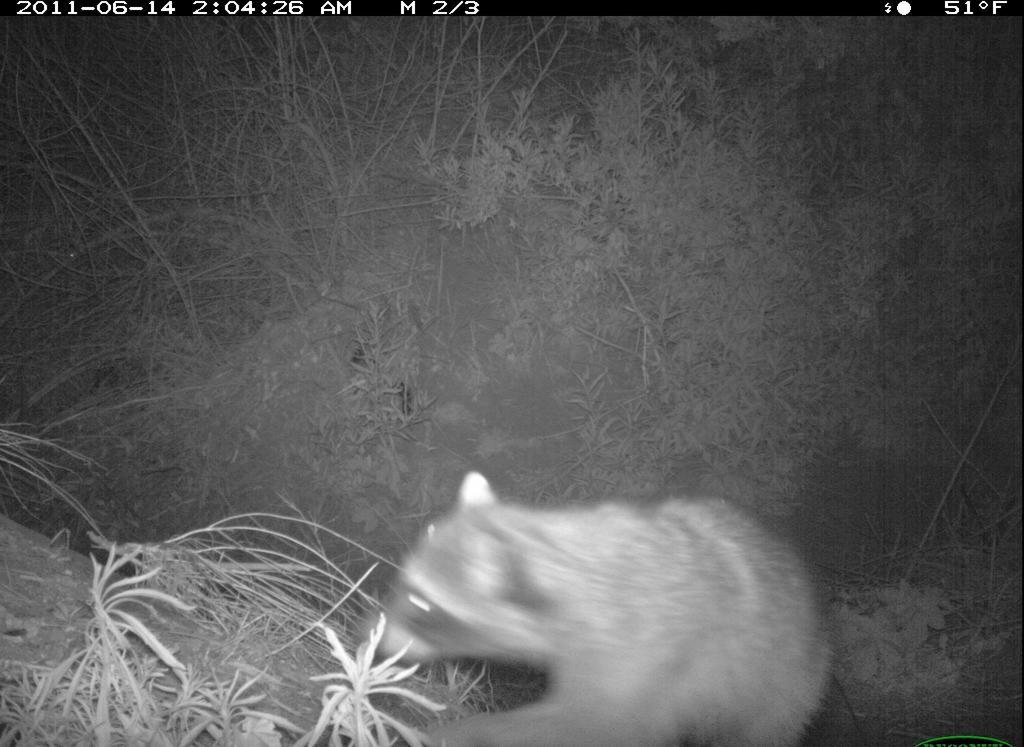raccoon: (361, 466, 847, 747)
